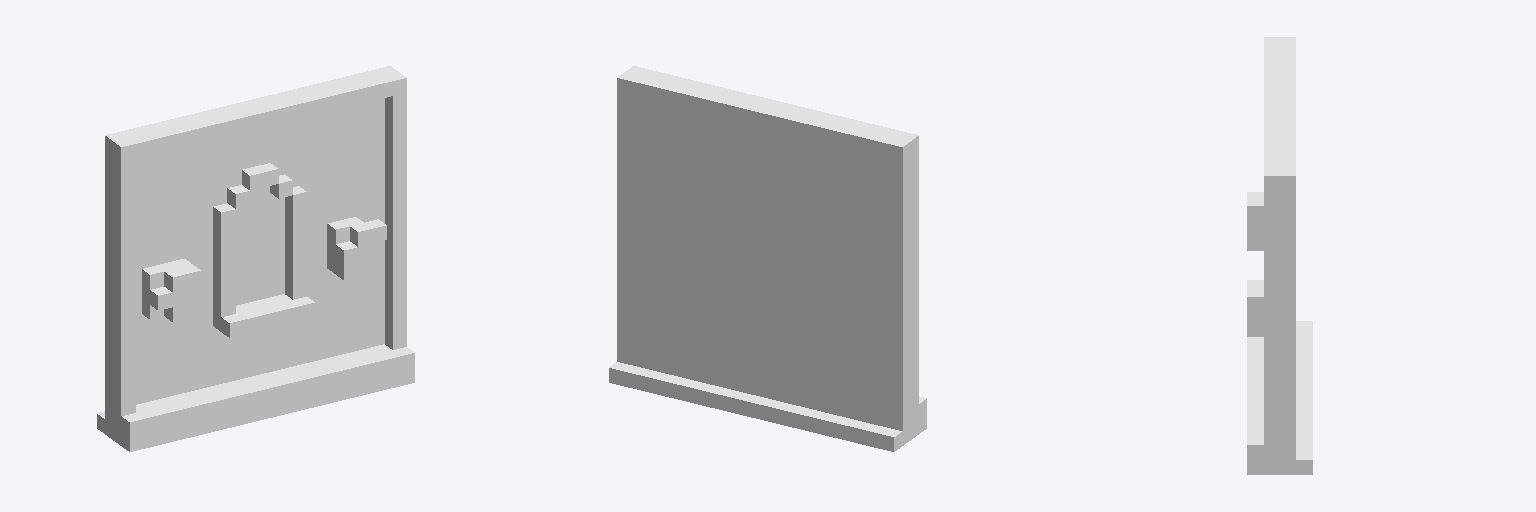
File: house-7-wall_window.obj
3 views of the same model, side by side, from view 1: azimuth 30°, elevation 25°; view 2: azimuth 150°, elevation 25°; view 3: azimuth 270°, elevation 25° (orthographic).
Visible parts, largest first — view 1: wall_window; view 2: wall_window; view 3: wall_window.
Part boxes in pixels (x1,y1,x2,y2): wall_window: (97, 66, 414, 451); wall_window: (609, 66, 926, 451); wall_window: (1247, 37, 1312, 474).
Size of the model in its own units: 2 by 2 by 0.4.